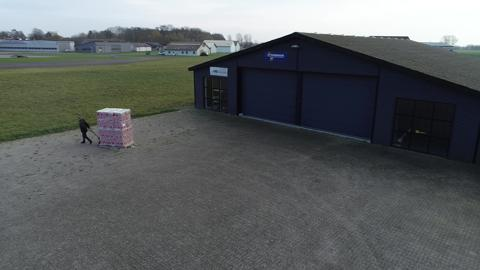RockwoolPallet: (96, 107, 135, 148)
